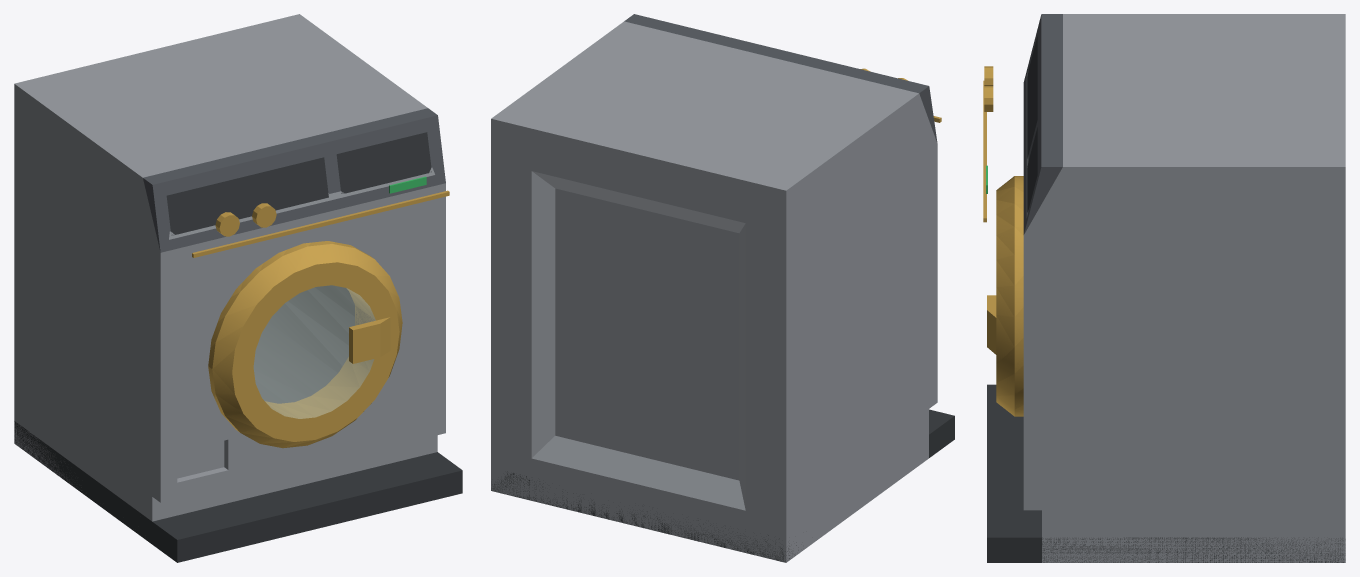
The model's file is washer.glb.
3 renders of one model, left to right at view 1: azimuth 30°, elevation 25°; view 2: azimuth 150°, elevation 25°; view 3: azimuth 270°, elevation 25°, orthographic. The views are drawn at different scales.
Visible parts, largest first — view 1: washer(Clone), washerDoor; view 2: washer(Clone); view 3: washer(Clone), washerDoor.
Part boxes in pixels (<box>): washer(Clone): <box>14,14,462,562</box>; washerDoor: <box>208,241,402,448</box>; washer(Clone): <box>491,14,954,562</box>; washer(Clone): <box>983,14,1345,562</box>; washerDoor: <box>987,176,1023,416</box>.
Bounding box in the file's own units: 0.39 × 0.47 × 0.39.
